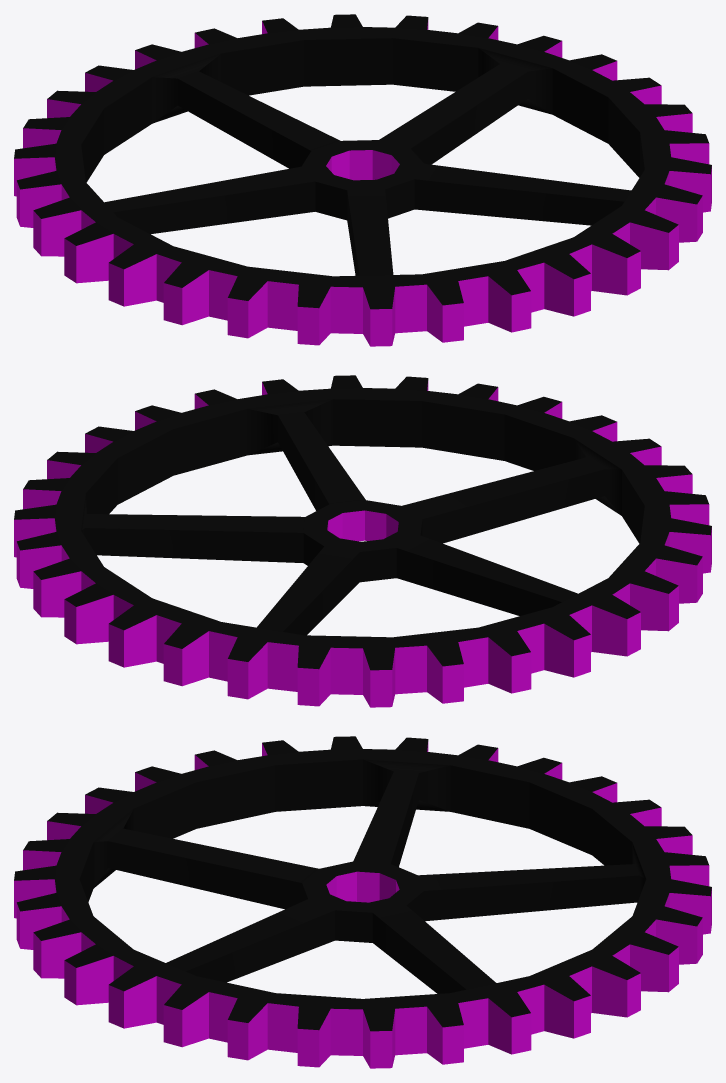
Rendered from D3GearV2.fbx.
The picture shows the model from 3 angles, top to bottom: view 1: azimuth 30°, elevation 25°; view 2: azimuth 150°, elevation 25°; view 3: azimuth 270°, elevation 25°; orthographic projection.
Visible parts, largest first — view 1: D3GearV2; view 2: D3GearV2; view 3: D3GearV2.
Part boxes in pixels (x1,y1,x2,y2): D3GearV2: [14, 14, 711, 346]; D3GearV2: [14, 375, 711, 707]; D3GearV2: [14, 736, 711, 1068].
Bounding box in the file's own units: 6.79 × 0.5 × 6.79.
